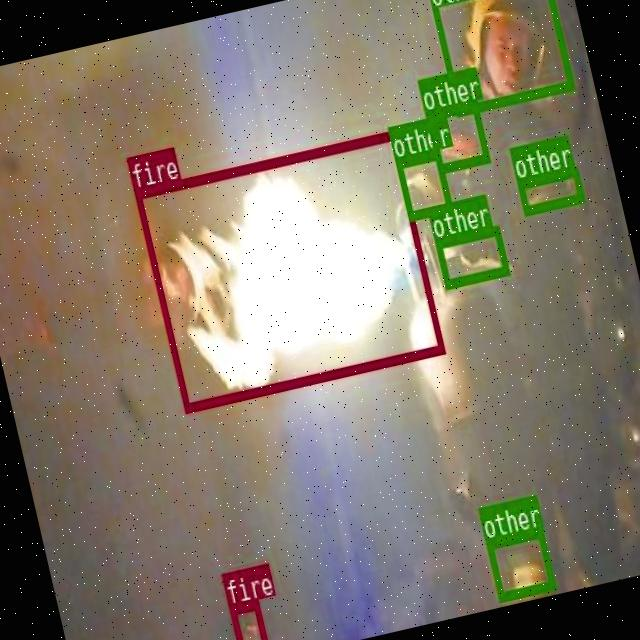fire: (133, 130, 444, 412), (227, 598, 268, 640)
